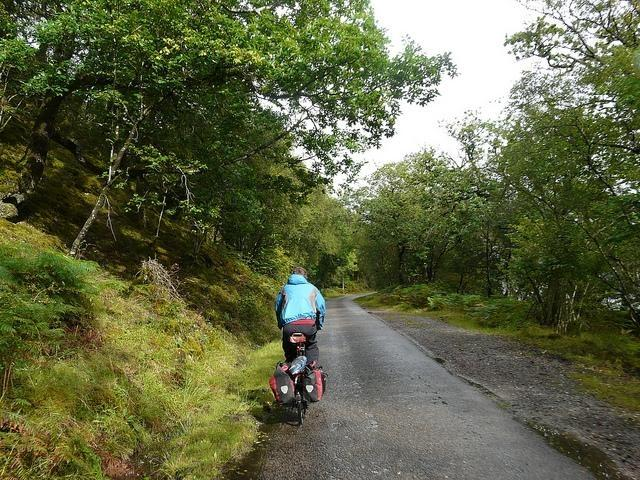bicycle: (289, 334, 305, 424)
